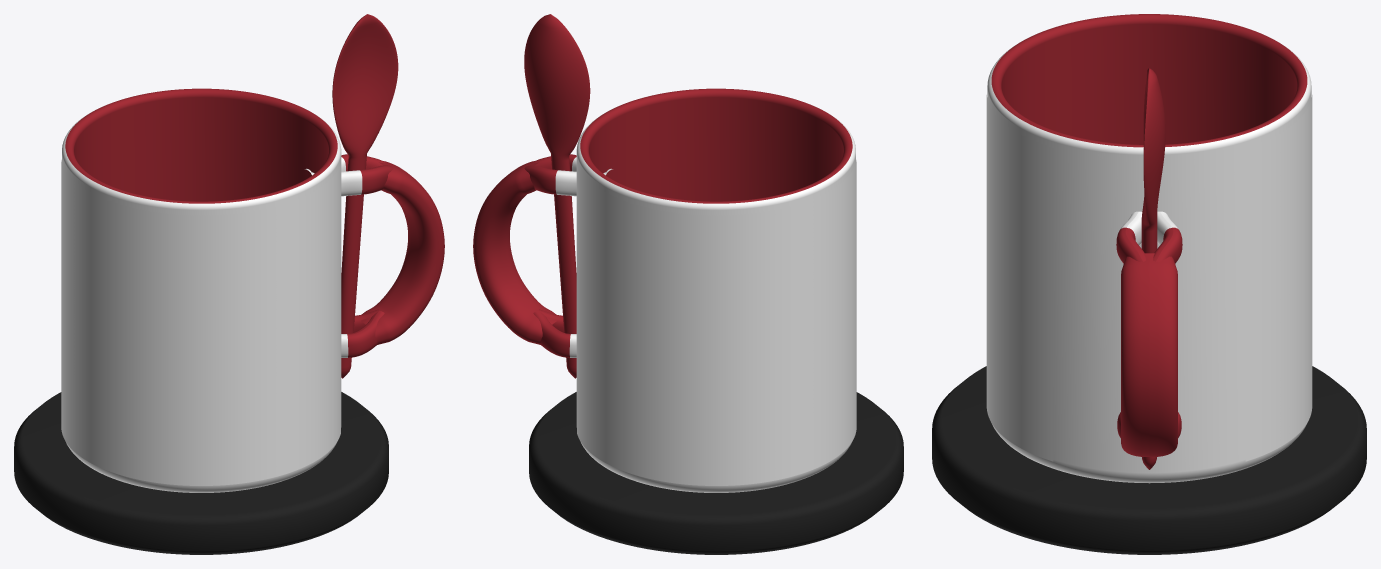
Rendered from caneca_colher_com_base.glb.
3 renders of one model, left to right at view 1: azimuth 30°, elevation 25°; view 2: azimuth 150°, elevation 25°; view 3: azimuth 270°, elevation 25°, orthographic. The views are drawn at different scales.
Parts seen in each view (by area): view 1: Area_Arte, Base_Apoio, Interior_Caneca, Colher_Ceramica, Arco_Alca, Corpo_Externo, Olhal_Superior_Frente, Olhal_Inferior_Frente; view 2: Area_Arte, Base_Apoio, Interior_Caneca, Colher_Ceramica, Arco_Alca, Corpo_Externo, Olhal_Superior_Tras, Olhal_Inferior_Tras; view 3: Corpo_Externo, Area_Arte, Base_Apoio, Interior_Caneca, Arco_Alca, Colher_Ceramica, Olhal_Superior_Frente, Olhal_Superior_Tras.
Boxes of the visible parts, x1,y1,x2,y2 form: Area_Arte: (61, 160, 340, 485); Base_Apoio: (14, 392, 388, 554); Interior_Caneca: (65, 88, 337, 203); Colher_Ceramica: (332, 14, 398, 378); Arco_Alca: (361, 161, 444, 344); Corpo_Externo: (62, 110, 341, 492); Olhal_Superior_Frente: (310, 165, 393, 196); Olhal_Inferior_Frente: (341, 311, 384, 357); Area_Arte: (577, 160, 856, 485); Base_Apoio: (529, 392, 903, 554); Interior_Caneca: (580, 88, 852, 203); Colher_Ceramica: (524, 14, 590, 378); Arco_Alca: (473, 161, 556, 344); Corpo_Externo: (576, 110, 855, 492); Olhal_Superior_Tras: (524, 165, 607, 196); Olhal_Inferior_Tras: (533, 311, 576, 357); Corpo_Externo: (987, 36, 1311, 483); Area_Arte: (986, 95, 1312, 461); Base_Apoio: (932, 366, 1366, 554); Interior_Caneca: (991, 14, 1307, 147); Arco_Alca: (1121, 253, 1177, 456); Colher_Ceramica: (1141, 68, 1165, 469); Olhal_Superior_Frente: (1116, 211, 1145, 263); Olhal_Superior_Tras: (1153, 211, 1182, 263).
Bounding box in the file's own units: 0.1352 × 0.1375 × 0.11.
Materials: 5 (1 with a texture image).
